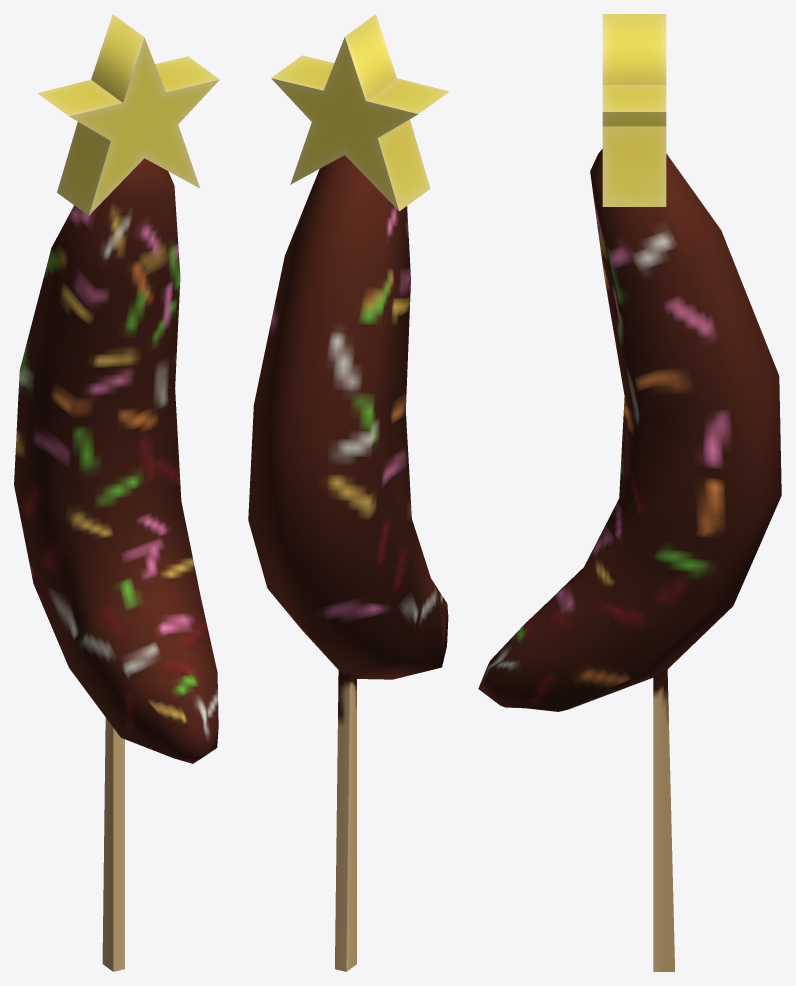
The model's file is jsf_ChocolateBanana_a04_c01.fbx.
3 views of the same model, side by side, from view 1: azimuth 30°, elevation 25°; view 2: azimuth 150°, elevation 25°; view 3: azimuth 270°, elevation 25° (orthographic). The views are drawn at different scales.
Parts seen in each view (by area): view 1: jsf_ChocolateBanana_a04_c01; view 2: jsf_ChocolateBanana_a04_c01; view 3: jsf_ChocolateBanana_a04_c01.
Part boxes in pixels (x1,y1,x2,y2): jsf_ChocolateBanana_a04_c01: (14, 14, 219, 971); jsf_ChocolateBanana_a04_c01: (248, 14, 449, 971); jsf_ChocolateBanana_a04_c01: (478, 14, 781, 971).
Size of the model in its own units: 4.51 by 27.18 by 7.83.
